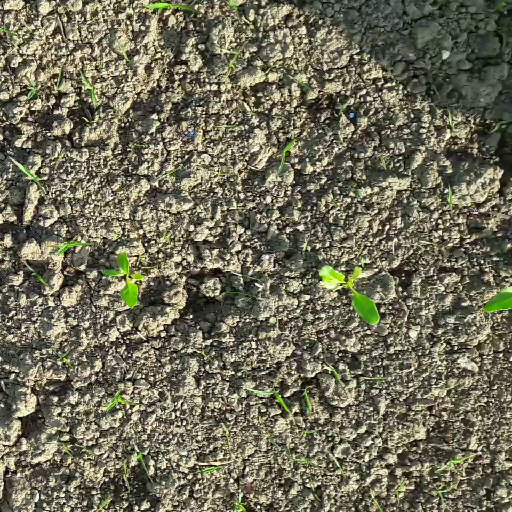sugarbeet: (315, 262, 383, 328), (99, 253, 146, 314)
weed: (245, 387, 292, 414), (7, 156, 46, 182), (145, 1, 212, 15), (77, 67, 98, 103), (104, 389, 134, 414), (25, 261, 52, 286), (51, 238, 94, 252), (135, 451, 152, 483), (280, 141, 295, 177), (298, 385, 312, 414), (232, 492, 251, 512), (443, 454, 474, 466), (431, 486, 451, 501), (25, 84, 41, 98), (447, 187, 454, 214), (332, 366, 341, 385), (287, 457, 308, 465), (196, 466, 219, 473), (217, 123, 235, 131), (227, 1, 237, 13), (98, 499, 111, 508), (371, 375, 389, 381)
